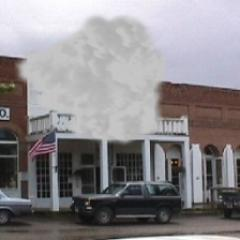smoke: (12, 10, 170, 146)
